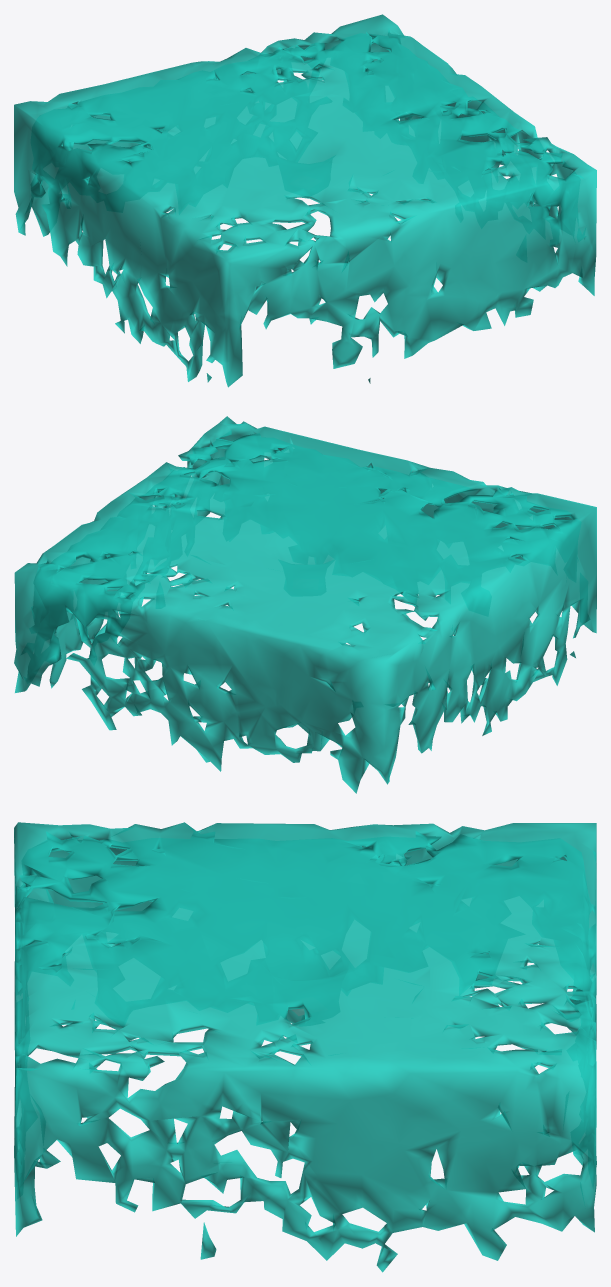
3 renders of one model, top to bottom at view 1: azimuth 30°, elevation 25°; view 2: azimuth 150°, elevation 25°; view 3: azimuth 270°, elevation 25°, orthographic. The views are drawn at different scales.
Parts seen in each view (by area): view 1: Liquid_Domain; view 2: Liquid_Domain; view 3: Liquid_Domain.
Boxes of the visible parts, x1,y1,x2,y2 form: Liquid_Domain: (14,14,596,387); Liquid_Domain: (14,416,596,793); Liquid_Domain: (14,822,596,1272).
Bounding box in the file's own units: 391 × 161 × 391.
